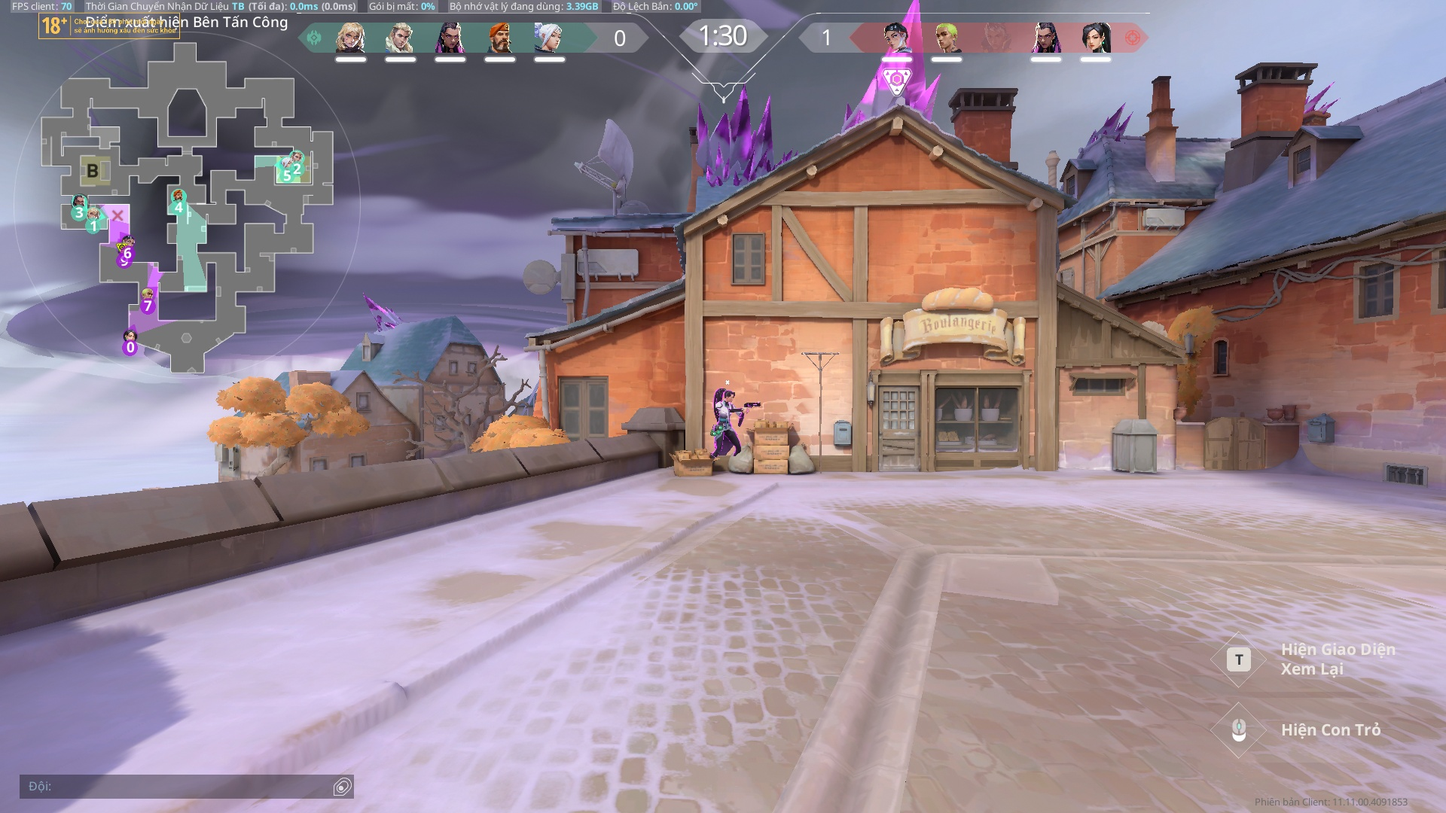body: (715, 400, 734, 422)
head: (723, 390, 736, 403)
